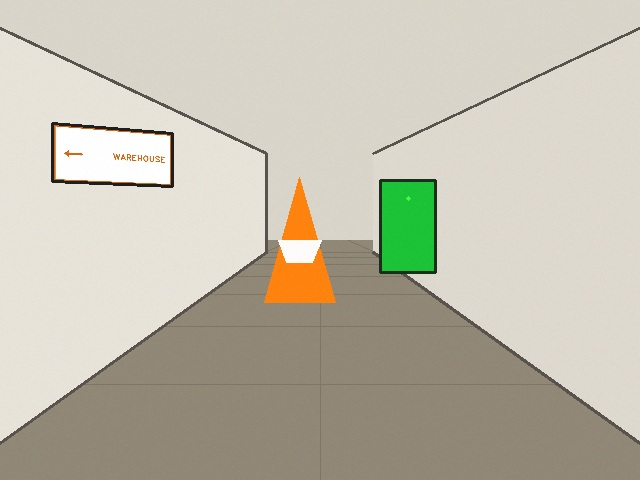charging_station: (380, 180, 435, 272)
directional_sign: (52, 123, 172, 186)
obstacle: (264, 177, 335, 302)
